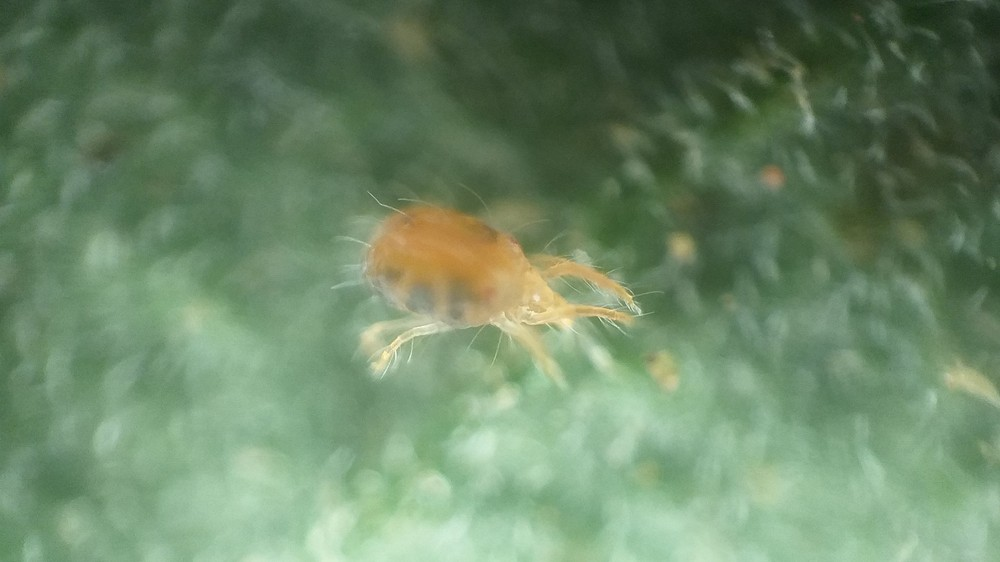Aracnido Rojo: (298, 168, 659, 401)
